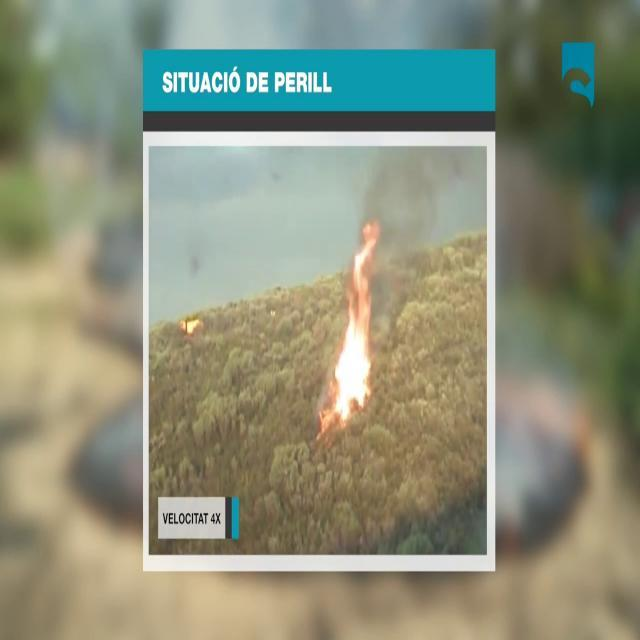Fire: (330, 216, 382, 424), (177, 306, 204, 337)
